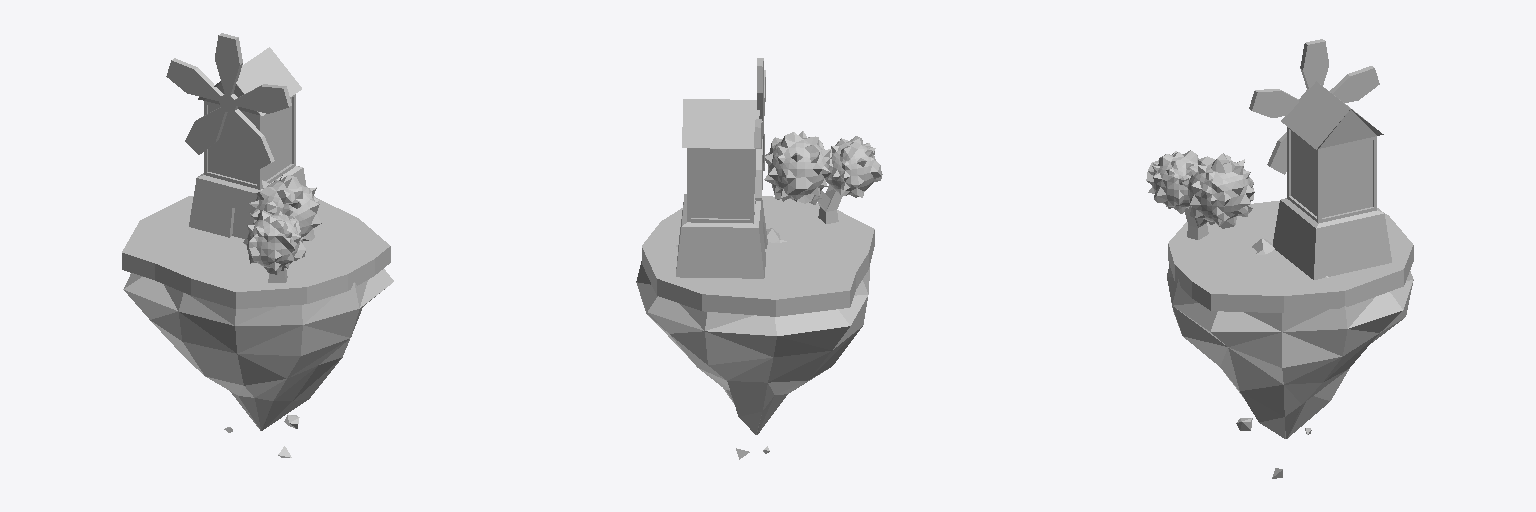
Rendered from windmill3.obj.
3 renders of one model, left to right at view 1: azimuth 30°, elevation 25°; view 2: azimuth 150°, elevation 25°; view 3: azimuth 270°, elevation 25°, orthographic.
Size of the model in its own units: 105 by 195 by 113.